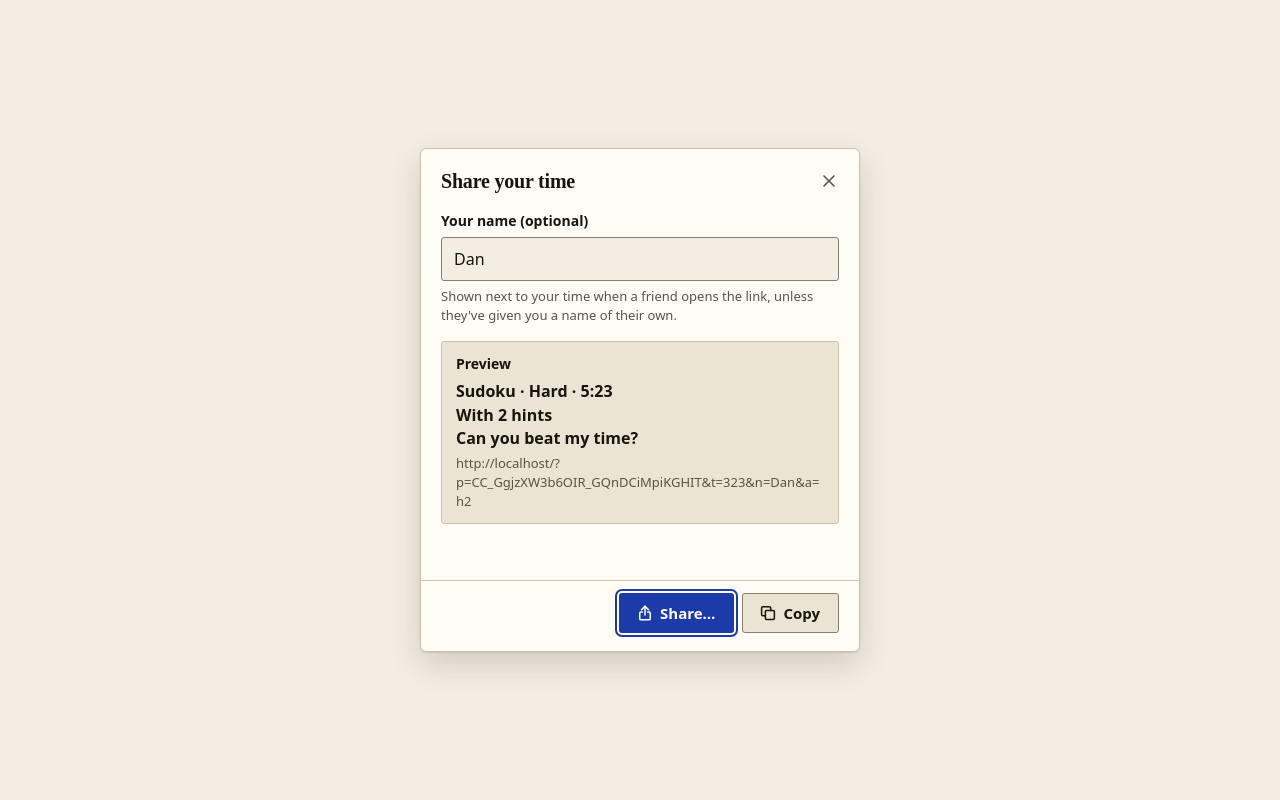
ShareDialog › the share sheet › shares the message and link, and says so
The width and height of the screenshot is (1280, 800).
Click the button "Share…": (677, 613) x1=619 y1=593 x2=734 y2=633
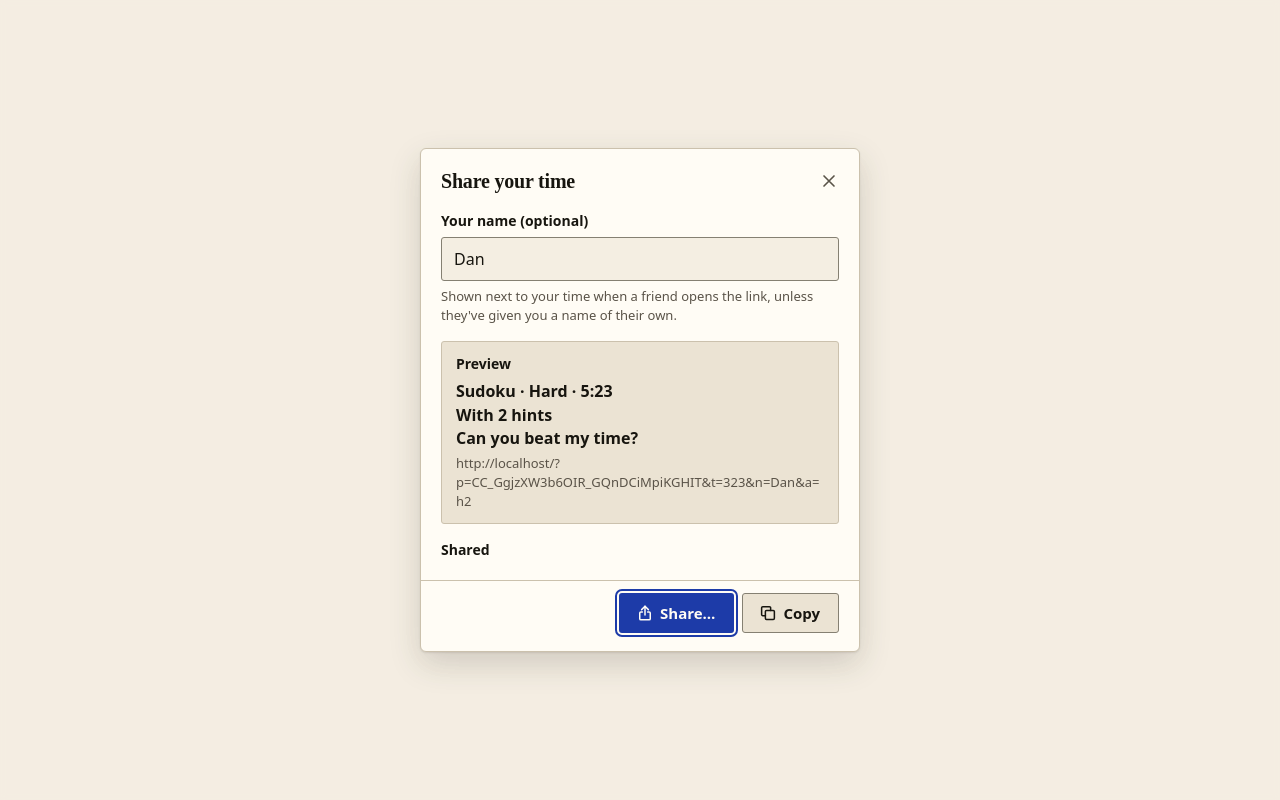
Result: the message reads "Shared" at x1=441 y1=540 x2=490 y2=558
